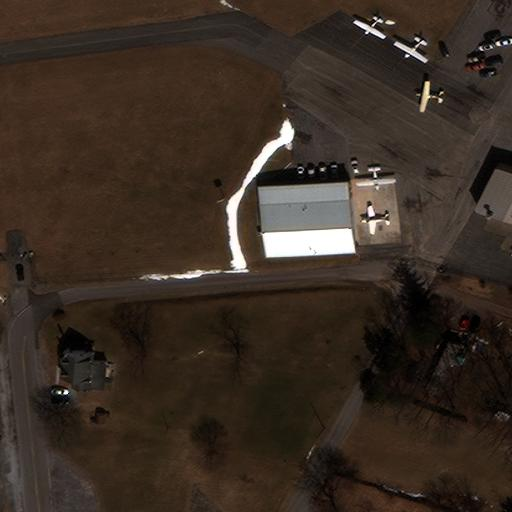Small Civil Transport: (355, 165, 396, 190), (415, 80, 442, 113), (392, 38, 424, 63), (360, 206, 388, 233), (352, 17, 383, 39)
